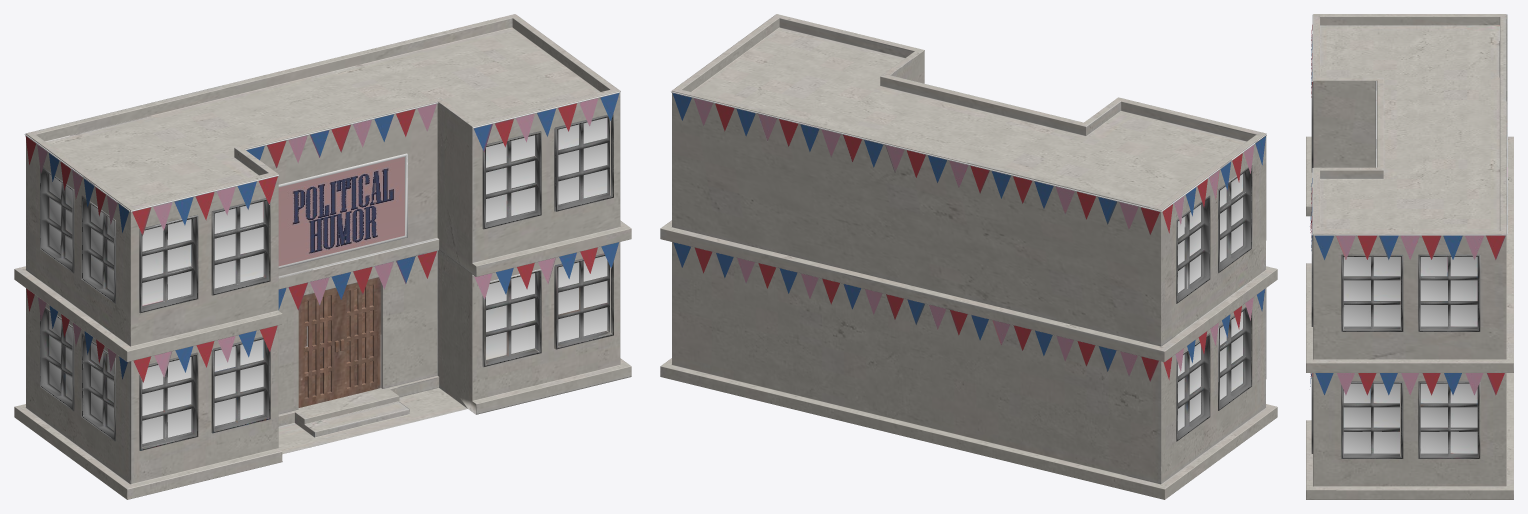
File: BUILDING_PoliticalHumor_1.fbx
3 renders of one model, left to right at view 1: azimuth 30°, elevation 25°; view 2: azimuth 150°, elevation 25°; view 3: azimuth 270°, elevation 25°, orthographic. The views are drawn at different scales.
Parts seen in each view (by area): view 1: BUILDING_PoliticalHumor_1_Baked; view 2: BUILDING_PoliticalHumor_1_Baked; view 3: BUILDING_PoliticalHumor_1_Baked.
Boxes of the visible parts, <box> form: BUILDING_PoliticalHumor_1_Baked: <box>14,14,631,499</box>; BUILDING_PoliticalHumor_1_Baked: <box>660,14,1277,499</box>; BUILDING_PoliticalHumor_1_Baked: <box>1306,14,1513,499</box>.
Bounding box in the file's own units: 160 × 86.66 × 62.14.
1 material, 1 textured.
